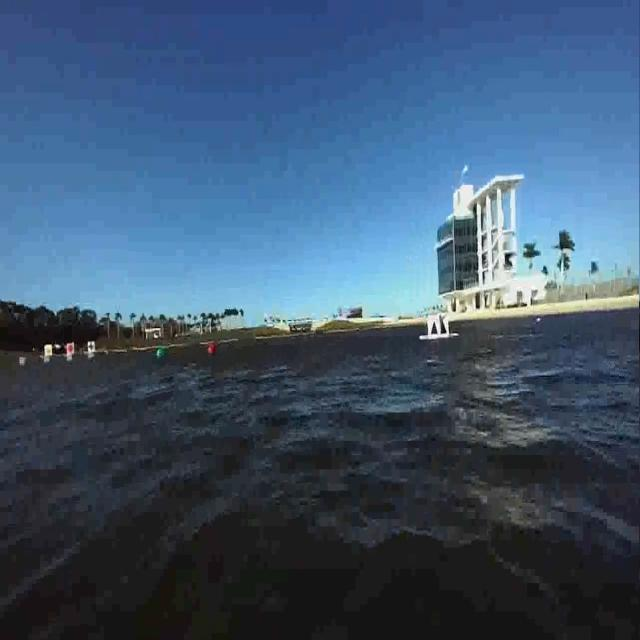green-buoy: (158, 346, 165, 364)
red-buoy: (207, 343, 217, 357)
